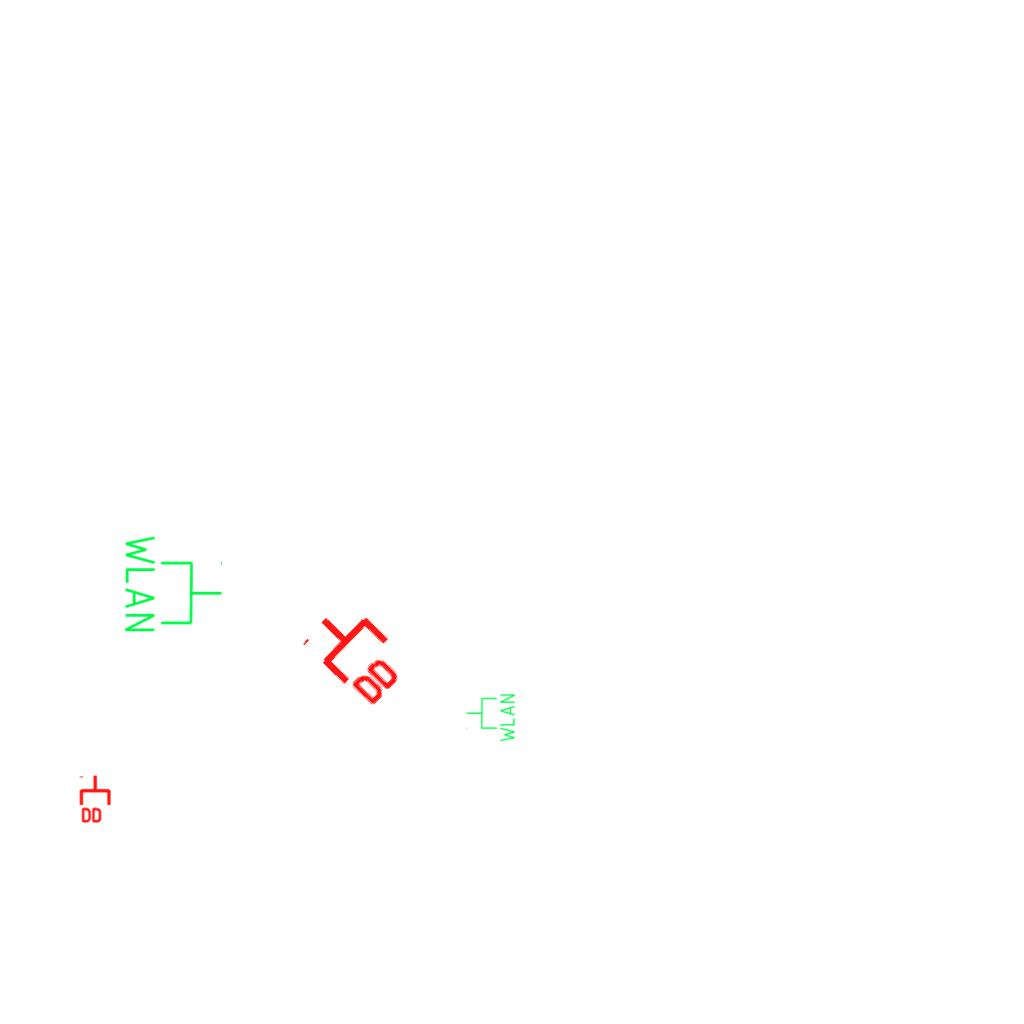Datenanschluss_zweifach: (298, 591, 421, 714), (79, 774, 113, 825)
WLAN: (121, 531, 225, 636), (465, 692, 517, 744)
